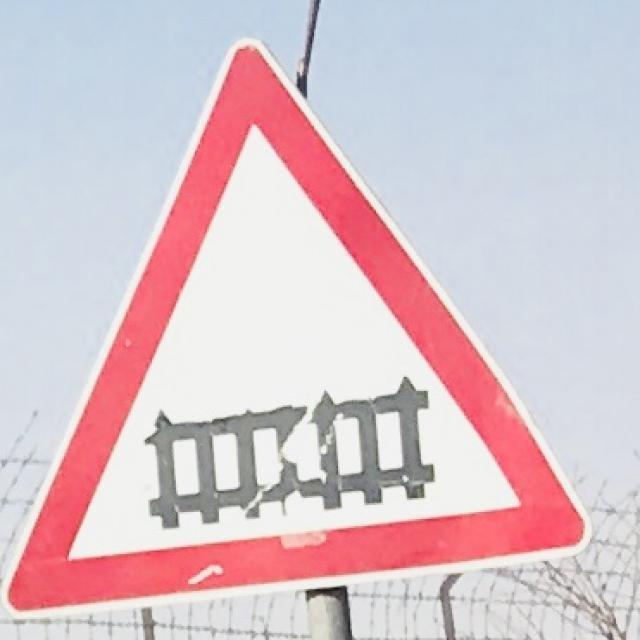guarded level crossing: (26, 40, 592, 589)
